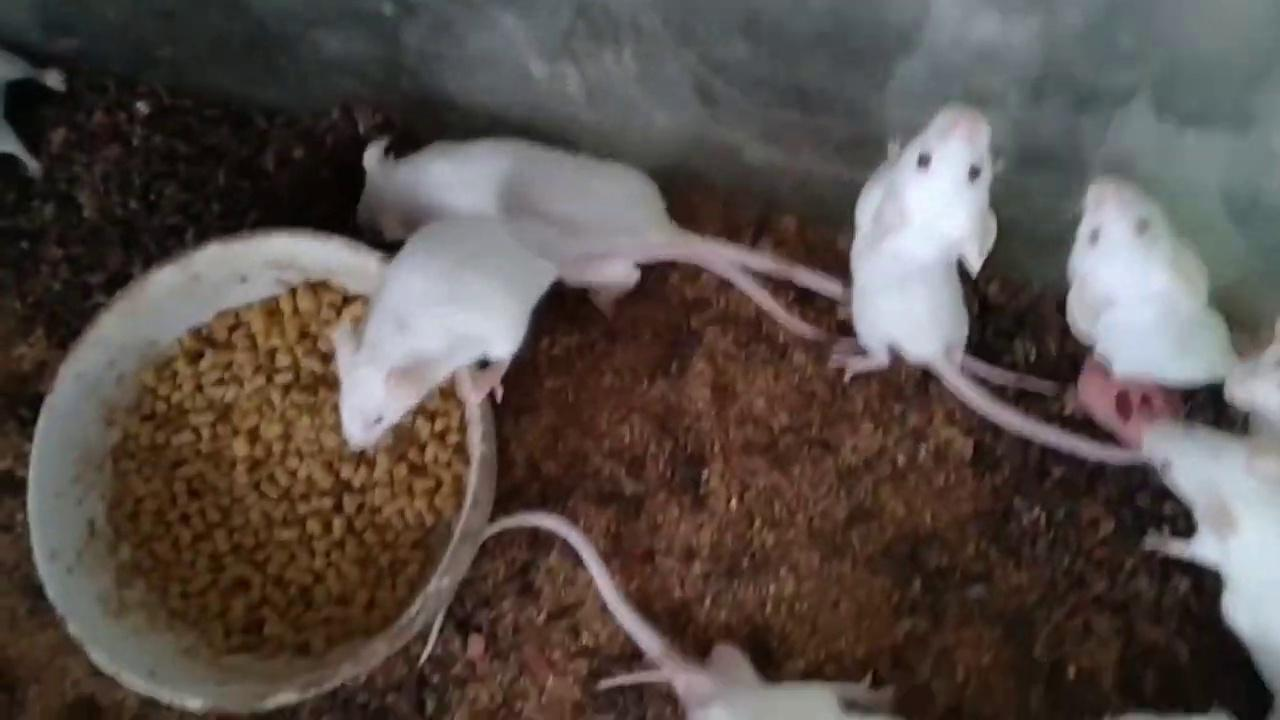rat: (837, 100, 1141, 462), (354, 136, 842, 320), (332, 221, 560, 453), (1129, 415, 1280, 720), (1066, 174, 1235, 389)
